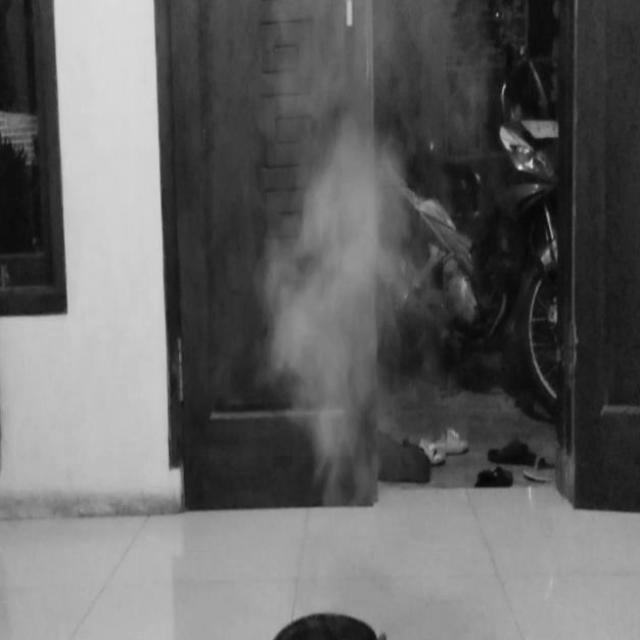fire: (255, 116, 424, 473)
